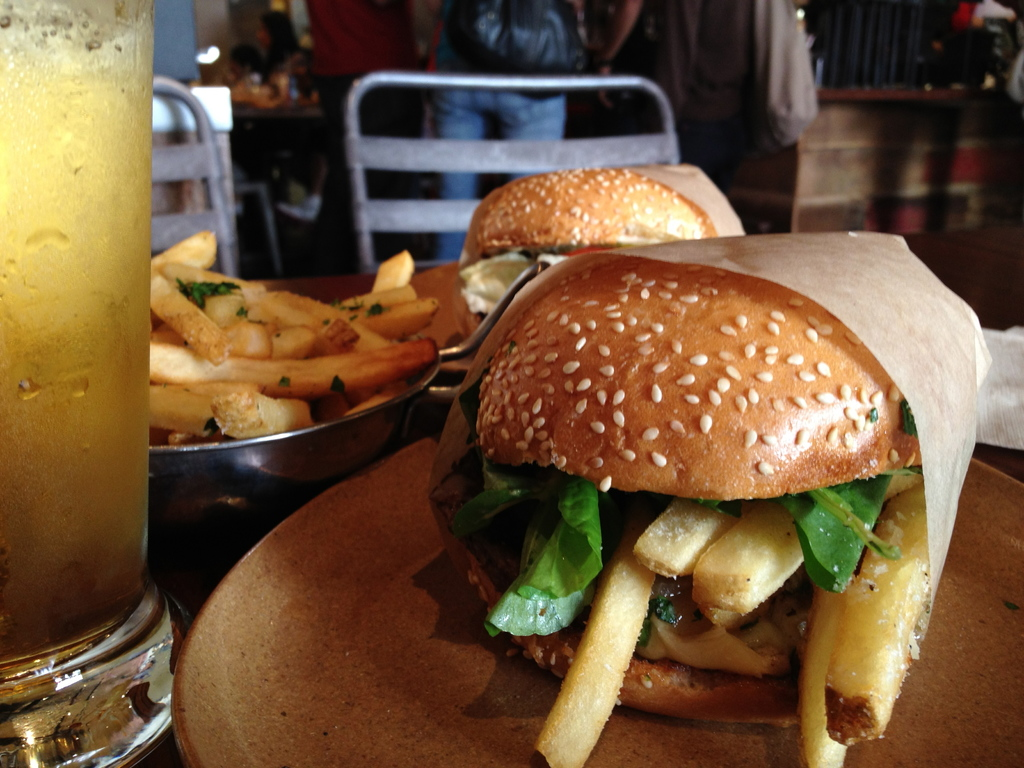French fries: (533, 464, 931, 767), (533, 466, 926, 767), (131, 211, 449, 462)
